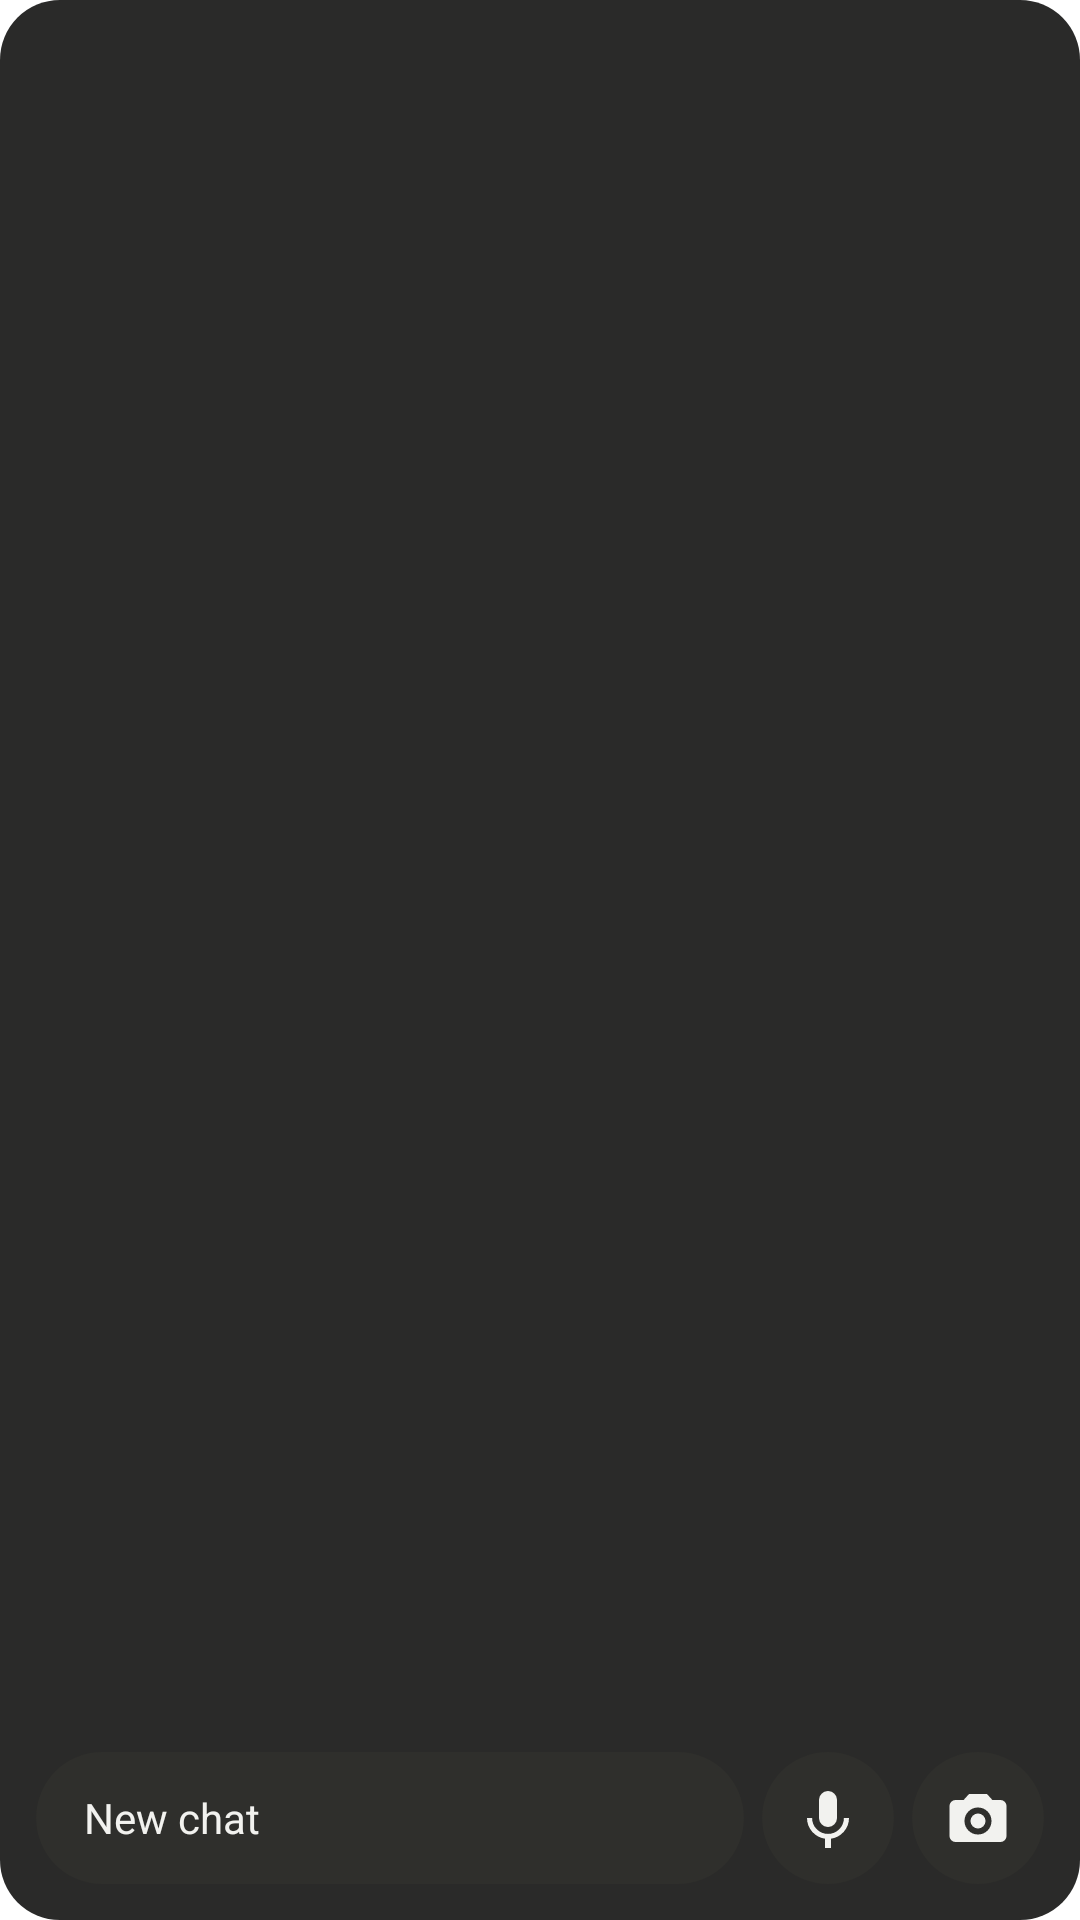

Icon click points for this 1080px×1920px phone screenshot, format (x,y):
New chat with a photo: (978,1818)
